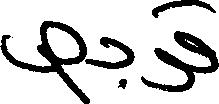X: (0, 16, 85, 103), (180, 0, 218, 96), (141, 0, 178, 96), (103, 32, 131, 93)
